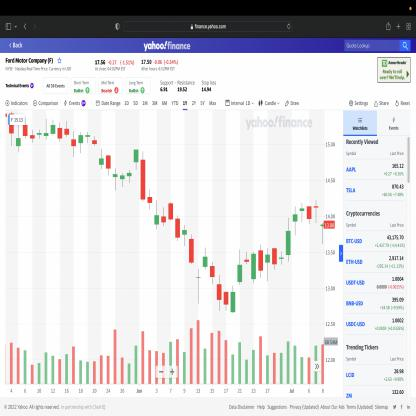Bearish Kicker: (182, 222, 196, 266)
Bullish Abandoned Baby: (187, 232, 208, 306)
